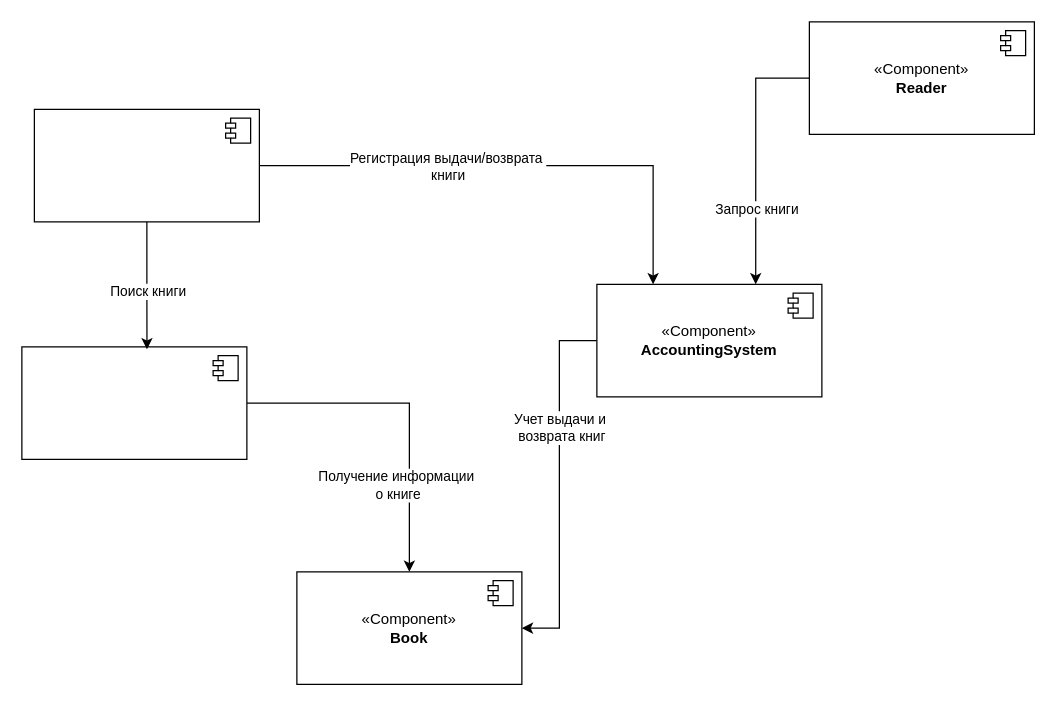
This 1056x706 diagram has some shape labels left out. The centre of each missing label's shape, as x and y in pixels:
"«Component» Catalog" goes at [134,402].
"«Component» Librarian" goes at [146,165].
